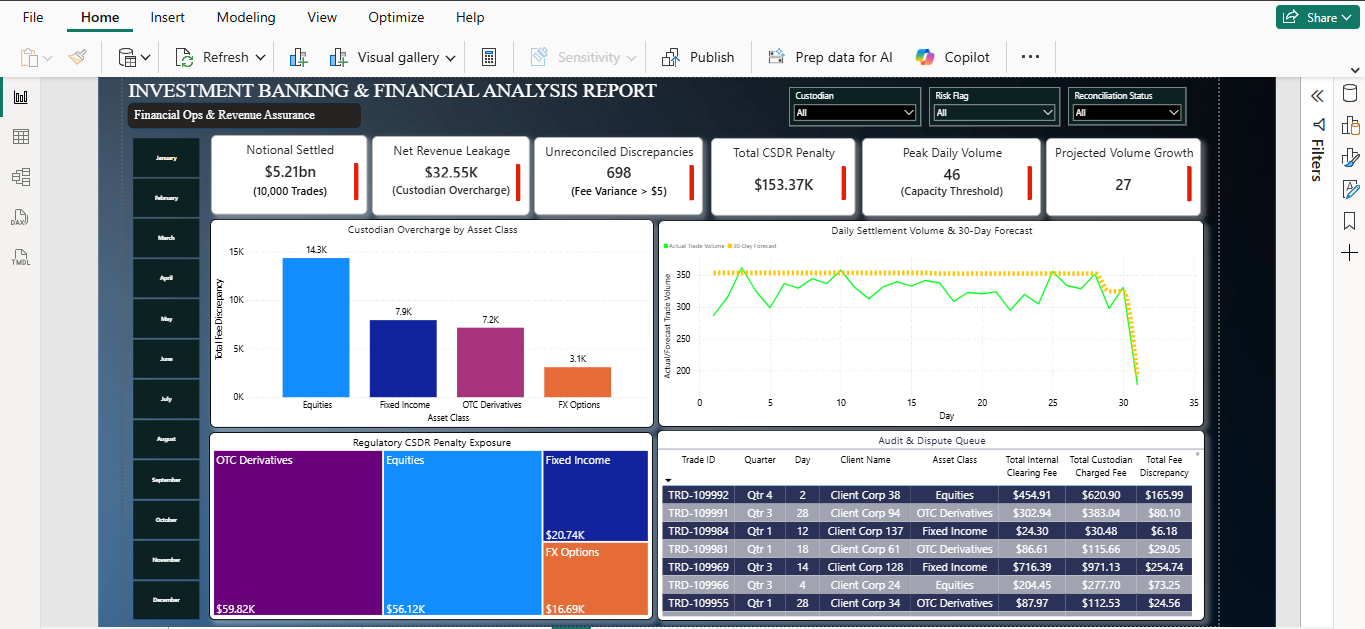

The dashboard page shown, as its layout file describes it:
{"tool":"powerbi","page":{"name":"Financial Operations & Risk","canvas":[2380,1190],"ordinal":1},"visuals":[{"type":"slicer","fields":{"Values":["dim_clients.client_name"]},"box":[1447.8,19.6,287,84.8],"z":1000},{"type":"slicer","fields":{"Values":["pred_trade_risk.risk_alert_flag"]},"box":[1752.2,19.6,284.8,84.8],"z":2000},{"type":"cardVisual","title":"Net Revenue Leakage","fields":{"Data":["Sum(fact_trades.fee_discrepancy)"]},"box":[542.3,125.1,342.5,173.5],"z":3000},{"type":"cardVisual","title":"Total CSDR Penalty","fields":{"Data":["Sum(fact_trades.simulated_penalty_usd)"]},"box":[1277.8,129.5,314,169.1],"z":4000},{"type":"tableEx","title":"Audit & Dispute Queue","fields":{"Values":["fact_trades.trade_id","fact_trades.trade_date.Variation.Date Hierarchy.Quarter","fact_trades.trade_date.Variation.Date Hierarchy.Day","dim_clients.client_name","fact_trades.asset_class","Sum(fact_trades.internal_clearing_fee)","Sum(fact_trades.custodian_charged_fee)","Sum(fact_trades.fee_discrepancy)"]},"box":[1160.9,765.2,1191.3,415.2],"z":5000},{"type":"textbox","box":[8.7,0,1265.2,71.7],"z":6000},{"type":"shape","box":[8.7,52.2,510.9,58.7],"z":7000},{"type":"textbox","box":[19.6,60.9,437,41.3],"z":8000},{"type":"cardVisual","title":"Fee Mismatch Rate","fields":{"Data":["Avg(fact_trades.is_fee_mismatch)"]},"box":[1274.7,430.5,315,130],"z":9000},{"type":"slicer","fields":{"Values":["fact_trades.Month"]},"box":[0,123,186,1060],"z":10000},{"type":"clusteredColumnChart","title":"Custodian Overcharge by Asset Class","fields":{"Category":["fact_trades.asset_class"],"Y":["Sum(fact_trades.fee_discrepancy)"]},"box":[189.1,306.5,965.2,454.3],"z":11000},{"type":"treemap","title":"Regulatory CSDR Penalty Exposure","fields":{"Group":["fact_trades.asset_class"],"Values":["Sum(fact_trades.simulated_penalty_usd)"]},"box":[187,769.6,965.2,408.7],"z":12000},{"type":"lineChart","title":"Daily Settlement Volume & 30-Day Forecast","fields":{"Category":["fact_volume_forecast.trade_date.Variation.Date Hierarchy.Day"],"Y":["Sum(fact_volume_forecast.actual_trade_volume)","Sum(fact_volume_forecast.forecast_trade_volume)"]},"box":[1163,308.7,1187,450],"z":13000},{"type":"cardVisual","title":"Projected Volume Growth ","fields":{"Data":["Avg(fact_volume_forecast.forecast_trade_volume)"]},"box":[2006.5,130.4,337,169.6],"z":14000},{"type":"cardVisual","title":"Unreconciled Discrepancies","fields":{"Data":["CountNonNull(fact_trades.trade_id)"]},"box":[893.5,128.3,367.4,169.6],"z":15000},{"type":"cardVisual","title":"Notional Settled","fields":{"Data":["Sum(fact_trades.notional_amount)"]},"box":[191,123,340.3,173.5],"z":16000},{"type":"slicer","fields":{"Values":["fact_trades.discrepancy_category"]},"box":[2054.3,19.6,256.5,82.6],"z":17000},{"type":"cardVisual","title":"Peak Daily Volume","fields":{"Data":["Max(fact_volume_forecast.actual_trade_volume)"]},"box":[1606.5,130.4,389.1,169.6],"z":18000}]}

Visuals, with their boxes on the page's 2380x1190 design canvas (x1, y1, x2, y2). These are canvas units, not pixel positions in the 1365x629 screenshot, which may show the page scaled, cropped or inside an application window:
slicer - dim_clients.client_name: (x1=1448, y1=20, x2=1735, y2=104)
slicer - pred_trade_risk.risk_alert_flag: (x1=1752, y1=20, x2=2037, y2=104)
"Net Revenue Leakage" cardVisual: (x1=542, y1=125, x2=885, y2=299)
"Total CSDR Penalty" cardVisual: (x1=1278, y1=130, x2=1592, y2=299)
"Audit & Dispute Queue" tableEx: (x1=1161, y1=765, x2=2352, y2=1180)
textbox: (x1=9, y1=0, x2=1274, y2=72)
shape: (x1=9, y1=52, x2=520, y2=111)
textbox: (x1=20, y1=61, x2=457, y2=102)
"Fee Mismatch Rate" cardVisual: (x1=1275, y1=430, x2=1590, y2=560)
slicer - fact_trades.Month: (x1=0, y1=123, x2=186, y2=1183)
"Custodian Overcharge by Asset Class" clusteredColumnChart: (x1=189, y1=306, x2=1154, y2=761)
"Regulatory CSDR Penalty Exposure" treemap: (x1=187, y1=770, x2=1152, y2=1178)
"Daily Settlement Volume & 30-Day Forecast" lineChart: (x1=1163, y1=309, x2=2350, y2=759)
"Projected Volume Growth " cardVisual: (x1=2006, y1=130, x2=2344, y2=300)
"Unreconciled Discrepancies" cardVisual: (x1=894, y1=128, x2=1261, y2=298)
"Notional Settled" cardVisual: (x1=191, y1=123, x2=531, y2=296)
slicer - fact_trades.discrepancy_category: (x1=2054, y1=20, x2=2311, y2=102)
"Peak Daily Volume" cardVisual: (x1=1606, y1=130, x2=1996, y2=300)
